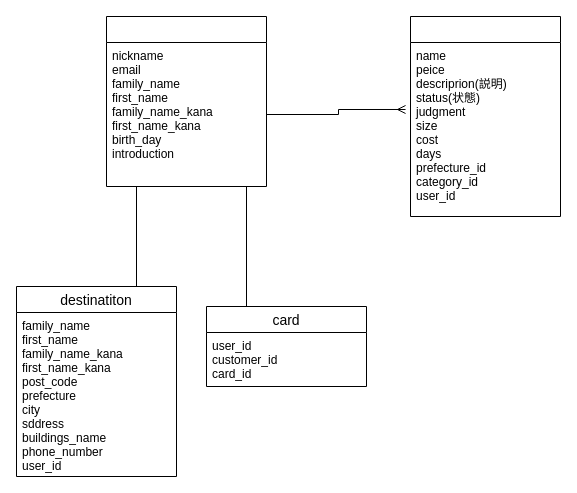
This 577x493 diagram has some shape labels left out. Each missing label, with the box of its shape:
product: (410, 16, 560, 216)
user: (106, 16, 266, 186)
